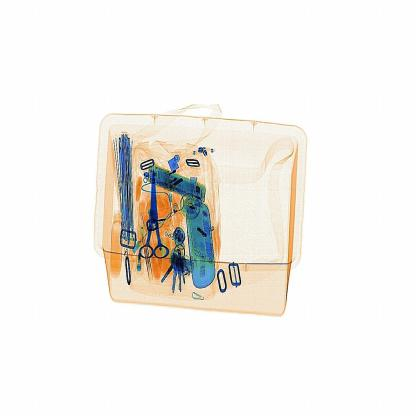gun: (133, 166, 171, 268)
